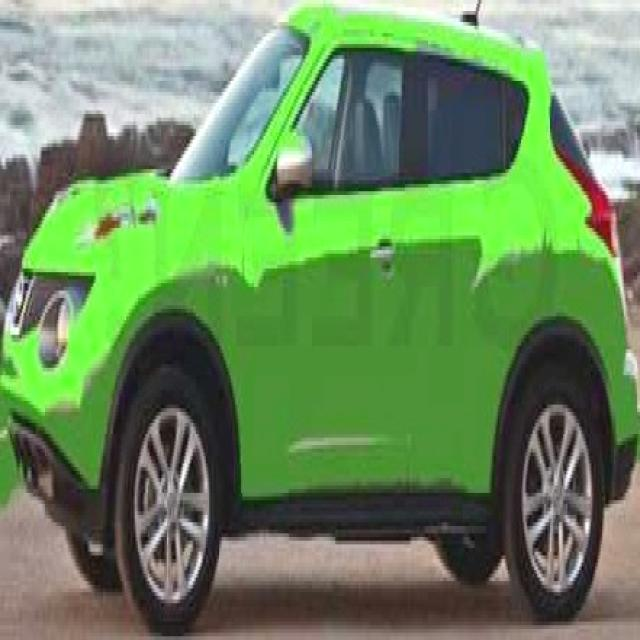green: (0, 0, 627, 585)
